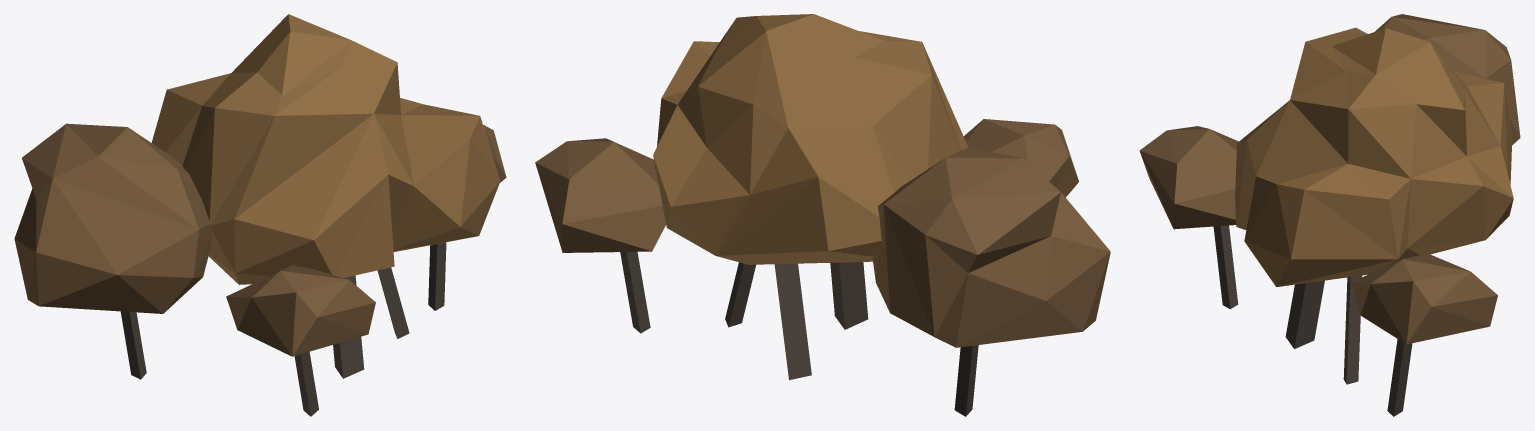
The model's file is bush.glb.
3 views of the same model, side by side, from view 1: azimuth 30°, elevation 25°; view 2: azimuth 150°, elevation 25°; view 3: azimuth 270°, elevation 25° (orthographic). The views are drawn at different scales.
Parts seen in each view (by area): view 1: SM_Plant_Bush_01; view 2: SM_Plant_Bush_01; view 3: SM_Plant_Bush_01.
Boxes of the visible parts, x1,y1,x2,y2 form: SM_Plant_Bush_01: (14,14,506,416); SM_Plant_Bush_01: (535,14,1110,416); SM_Plant_Bush_01: (1139,14,1520,416).
Bounding box in the file's own units: 244 × 152 × 167.
Materials: 1 (1 with a texture image).
